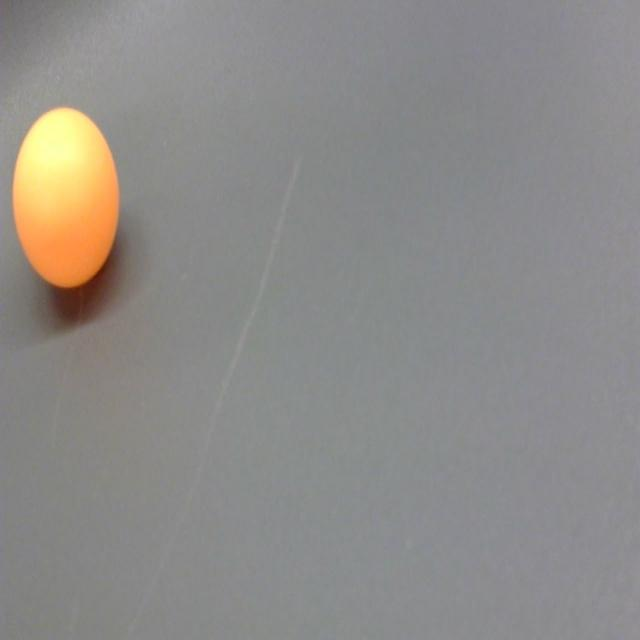ball: (10, 103, 124, 293)
